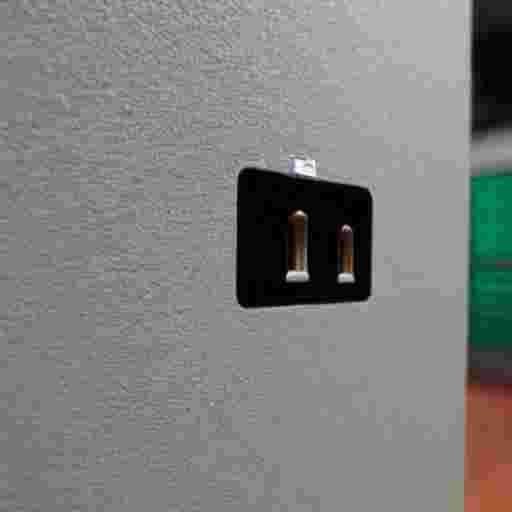power outlet: (236, 168, 371, 306), (469, 171, 511, 383)
